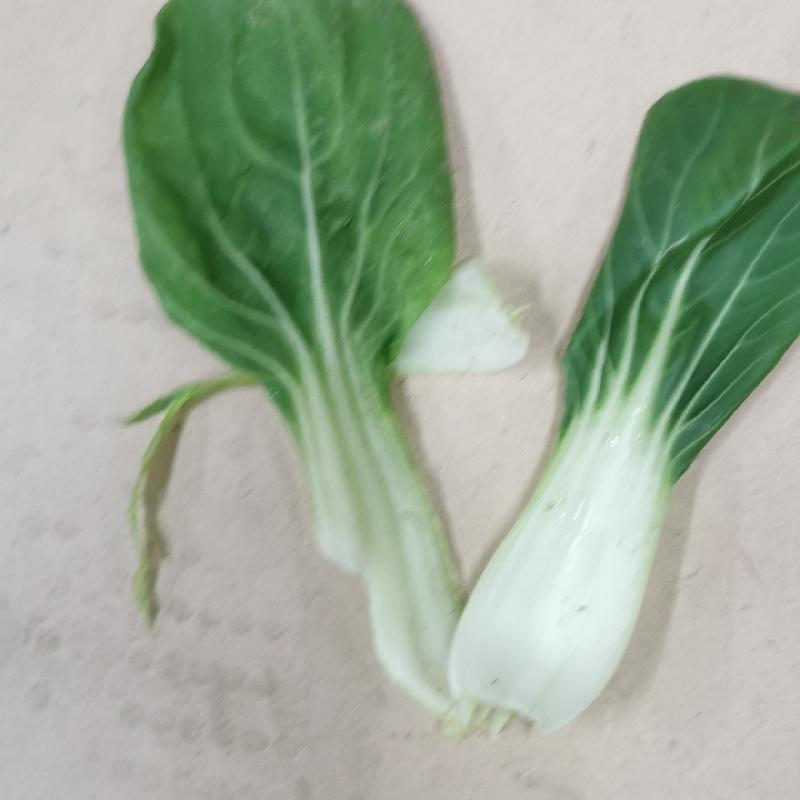green vegatable: (115, 4, 475, 707), (496, 52, 799, 719)
